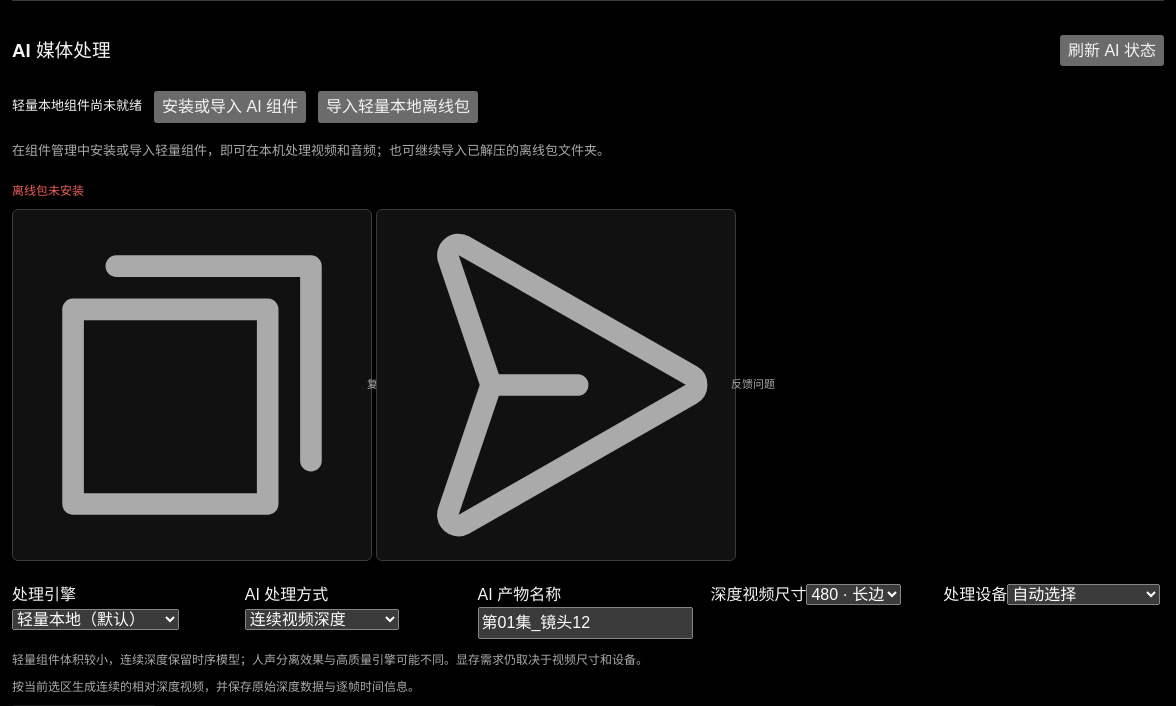
Test case: AiMediaPanel › keeps processing unavailable when the offline package is missing and can import it
Expected: the text "离线包未安装" is shown, [12, 184, 84, 198]
Click the button "导入轻量本地离线包" at (398, 107), box [318, 91, 478, 123]
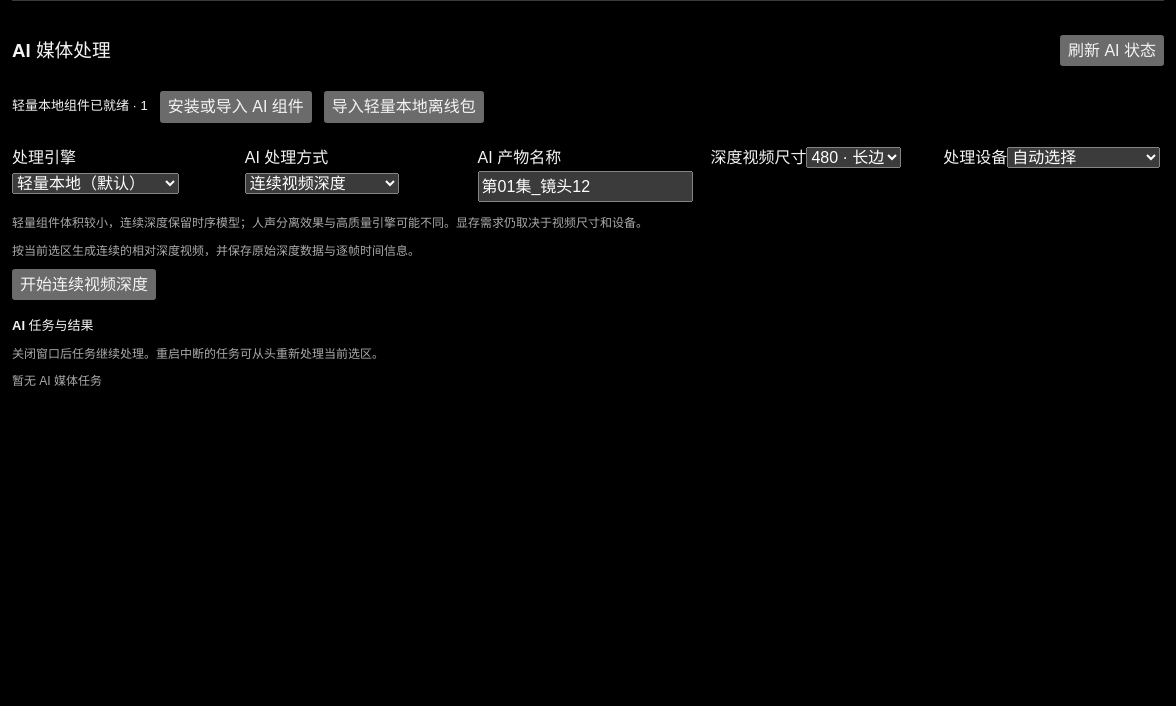
Expected: the button "开始连续视频深度" is enabled, [12, 269, 156, 300]
